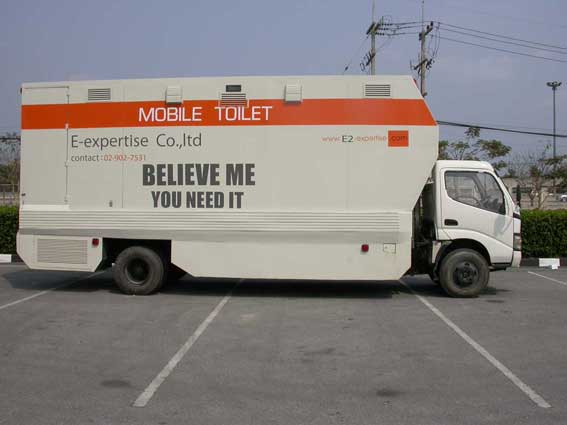truck: (11, 73, 528, 299)
